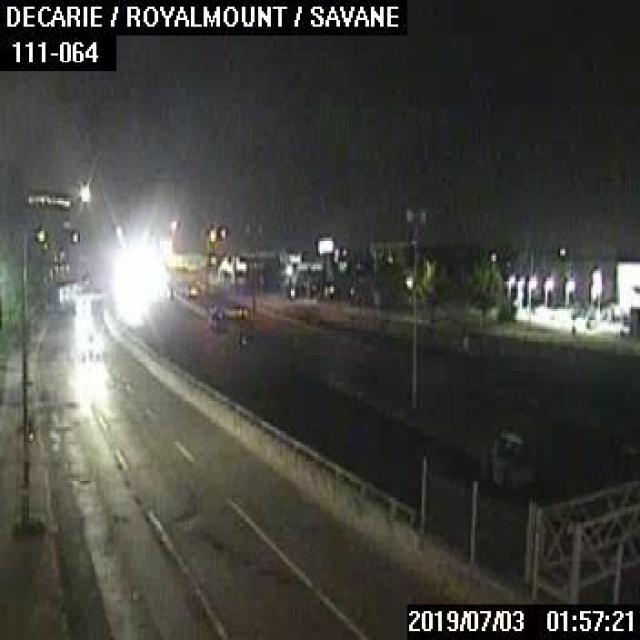vehicle: (227, 329, 252, 353), (230, 298, 247, 318), (205, 301, 225, 316)
